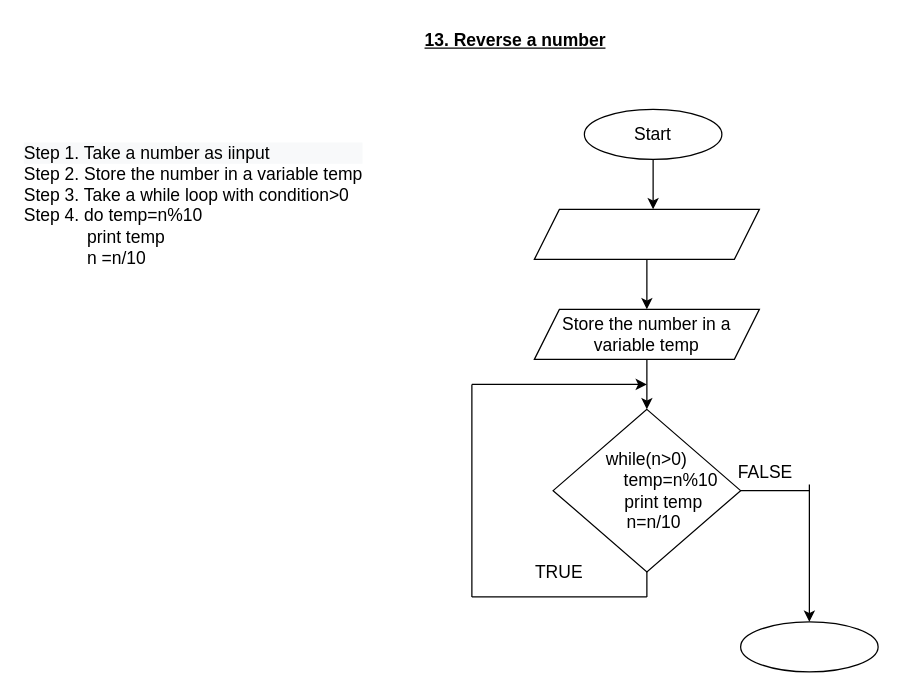
This 900x694 diagram has some shape labels left out. The shapes that lost their labels are listed below. From the top down, each one's centre as x and y in pixels, then its label:
At pixel 646 233: "Input a number".
At pixel 808 646: "Stop".
